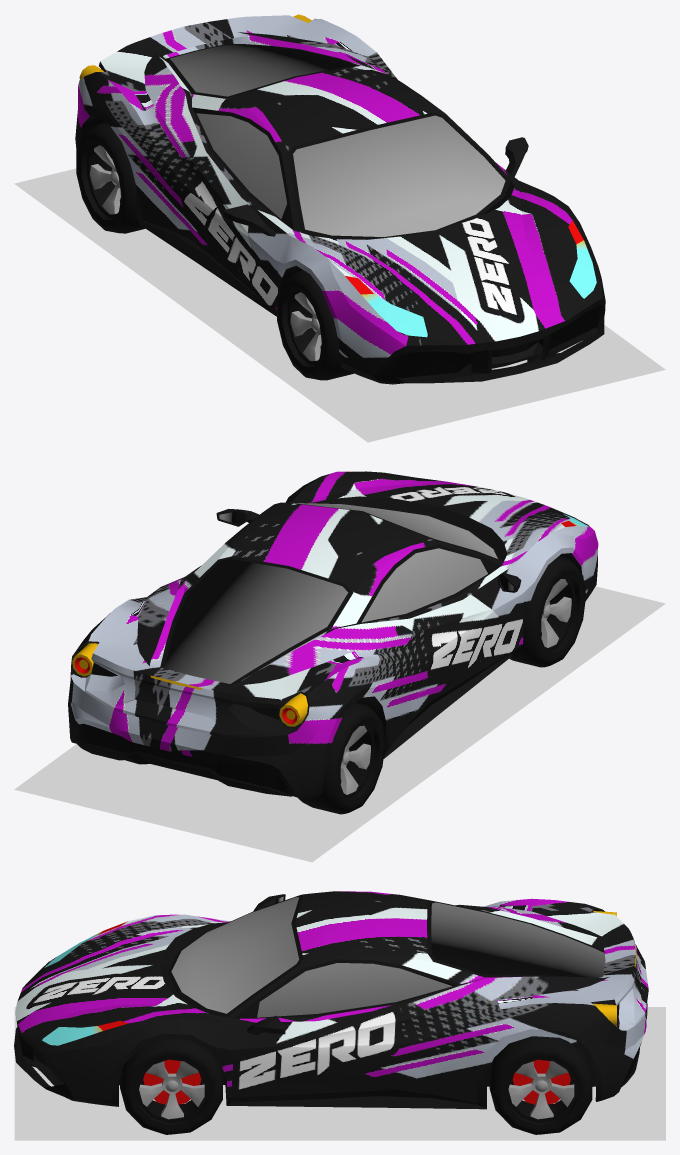
Rendered from Car_Warhorse.fbx.
3 views of the same model, one above another, from view 1: azimuth 30°, elevation 25°; view 2: azimuth 150°, elevation 25°; view 3: azimuth 270°, elevation 25° (orthographic). The views are drawn at different scales.
Visible parts, largest first — view 1: Car22_LOD0; view 2: Car22_LOD0; view 3: Car22_LOD0.
Part boxes in pixels (<box>): Car22_LOD0: <box>14,14,665,442</box>; Car22_LOD0: <box>14,471,665,862</box>; Car22_LOD0: <box>14,891,665,1140</box>.
Bounding box in the file's own units: 1.69 × 0.937 × 3.42.
